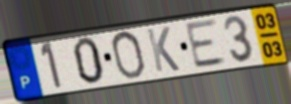0: (71, 35, 107, 85)
1: (38, 40, 66, 91)
3: (222, 13, 257, 65)
E: (183, 17, 229, 71)
K: (144, 25, 182, 74)
O: (109, 28, 147, 81)
